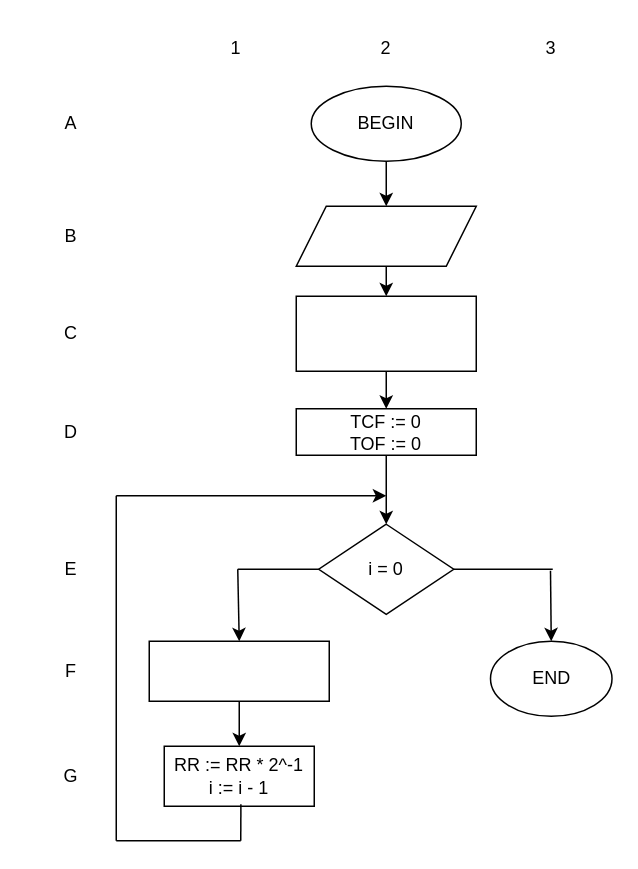
This 638x869 diagram has some shape labels left out. The shapes that lost their labels are listed below. From the top down, each one's box as (x1, y1, x2, y2) in pixels, then its label:
(295, 205, 476, 266): RA := A RB := B
(295, 295, 476, 371): RR := RB * 2^3 + 0 i := A
(148, 640, 329, 701): TCF := RR[3] TOF := RR[2] ⊻ RR[3]
